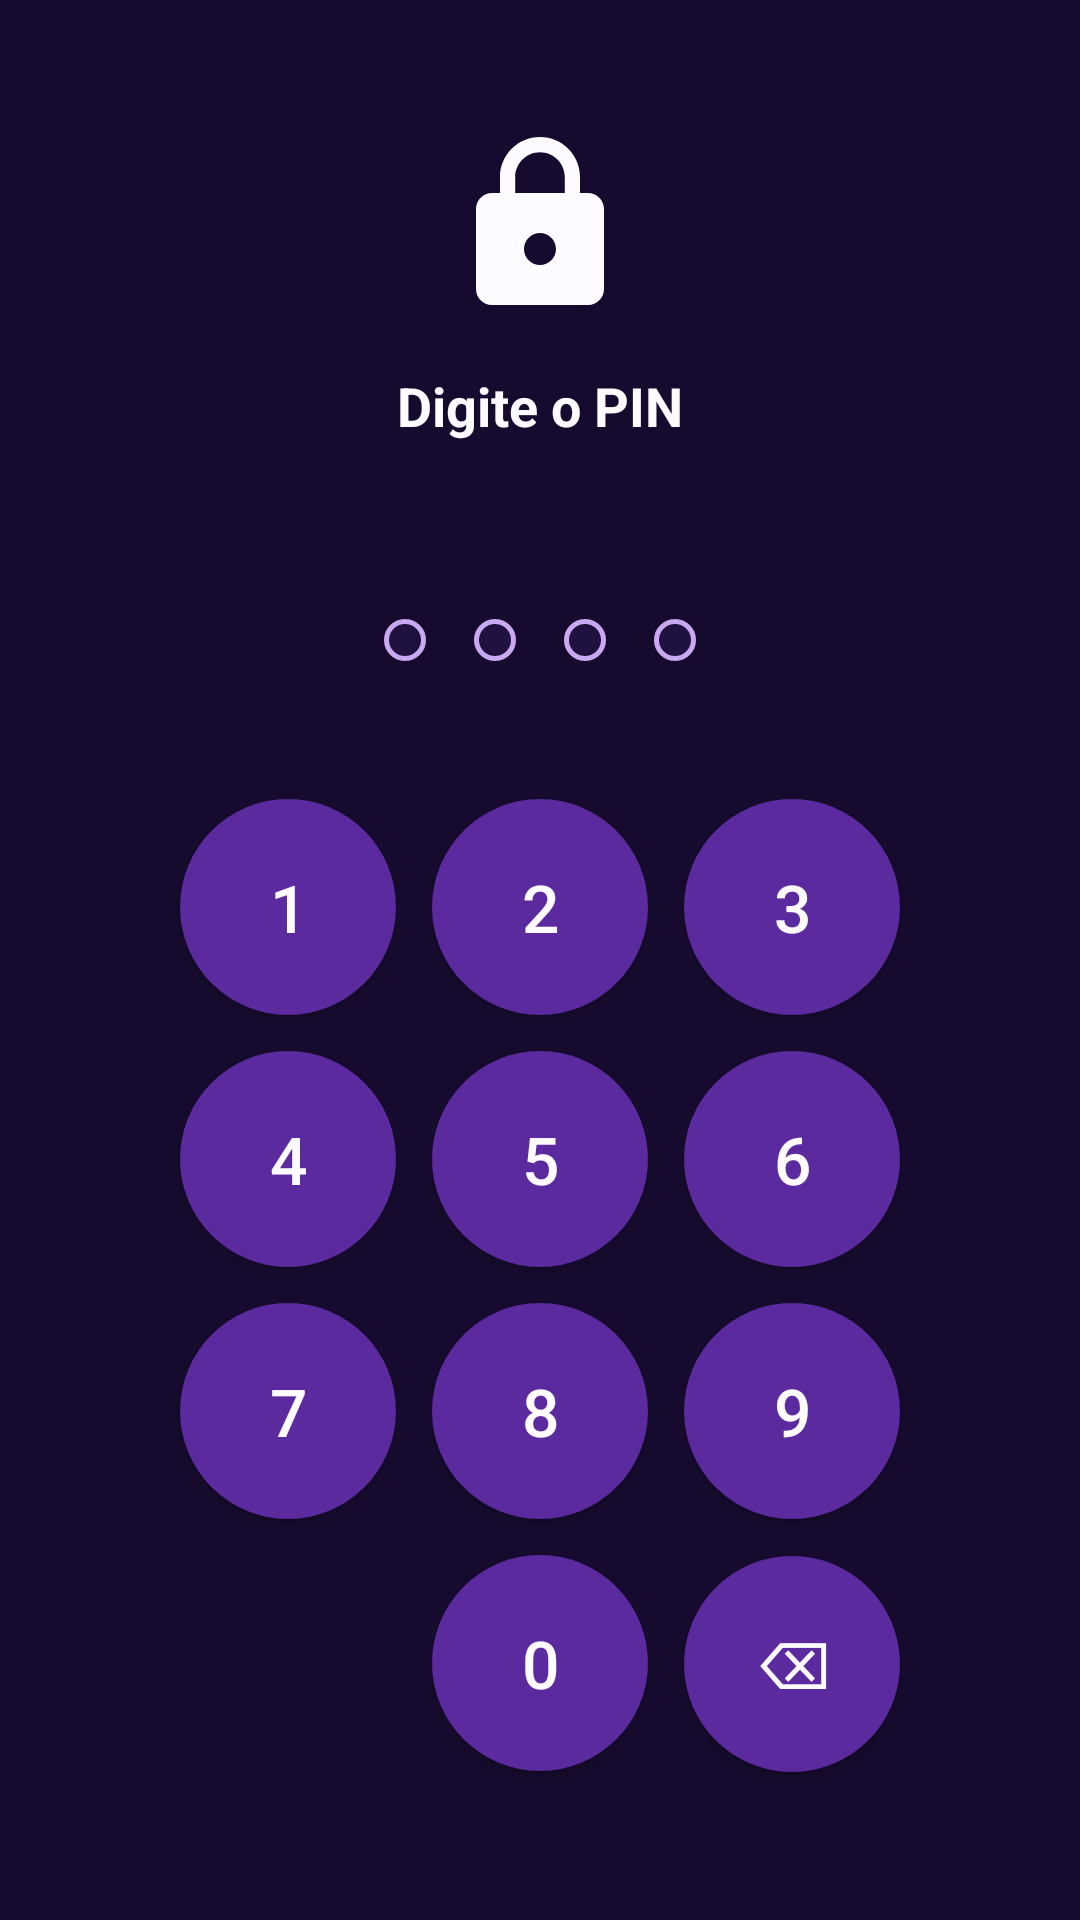

Icons on this 1080px x 1920px Android screen, each with its box as (x1,y1,x2,y2):
lock: (476,137,604,305)
